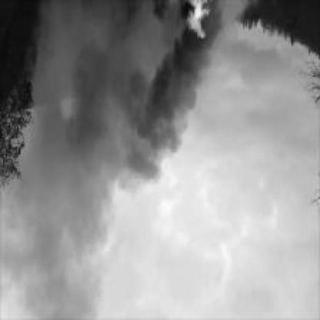Fire: (180, 3, 218, 37)
Smoke: (31, 43, 208, 186)
